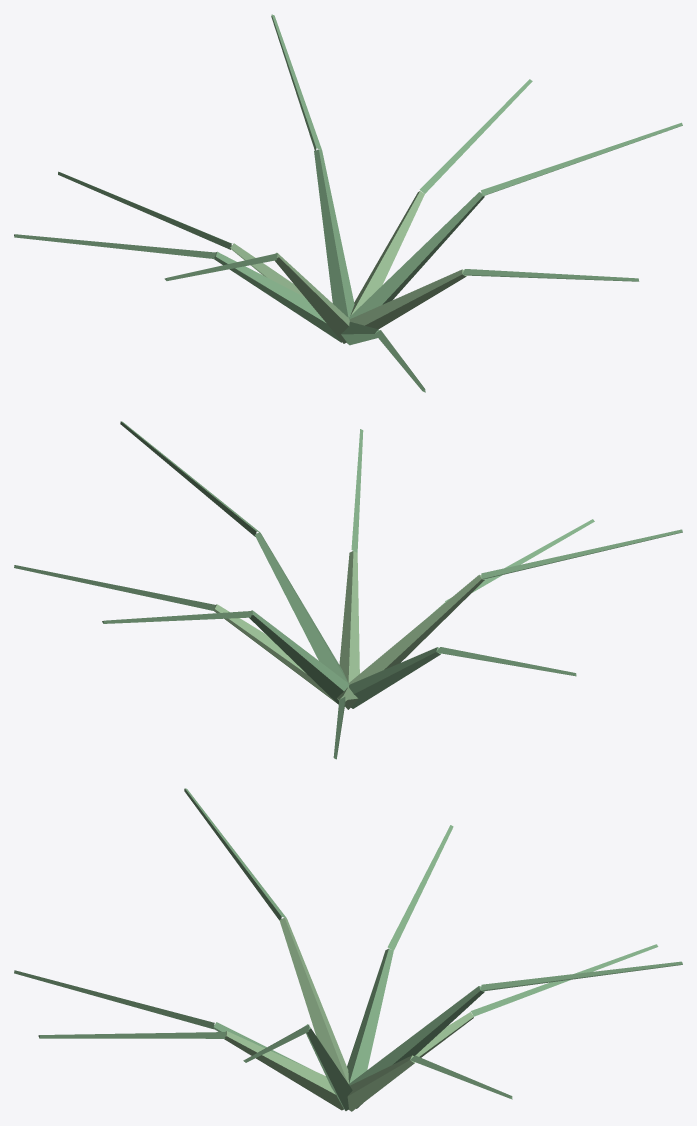
File: fern_v39.glb
The picture shows the model from 3 angles, top to bottom: view 1: azimuth 30°, elevation 25°; view 2: azimuth 150°, elevation 25°; view 3: azimuth 270°, elevation 25°; orthographic projection. The views are drawn at different scales.
Parts seen in each view (by area): view 1: lod0; view 2: lod0; view 3: lod0.
Part boxes in pixels (<box>): lod0: <box>14,14,682,392</box>; lod0: <box>14,421,682,759</box>; lod0: <box>14,788,682,1111</box>.
Size of what is drawn, in the model's own units: 1.88 by 0.5939 by 1.88.
